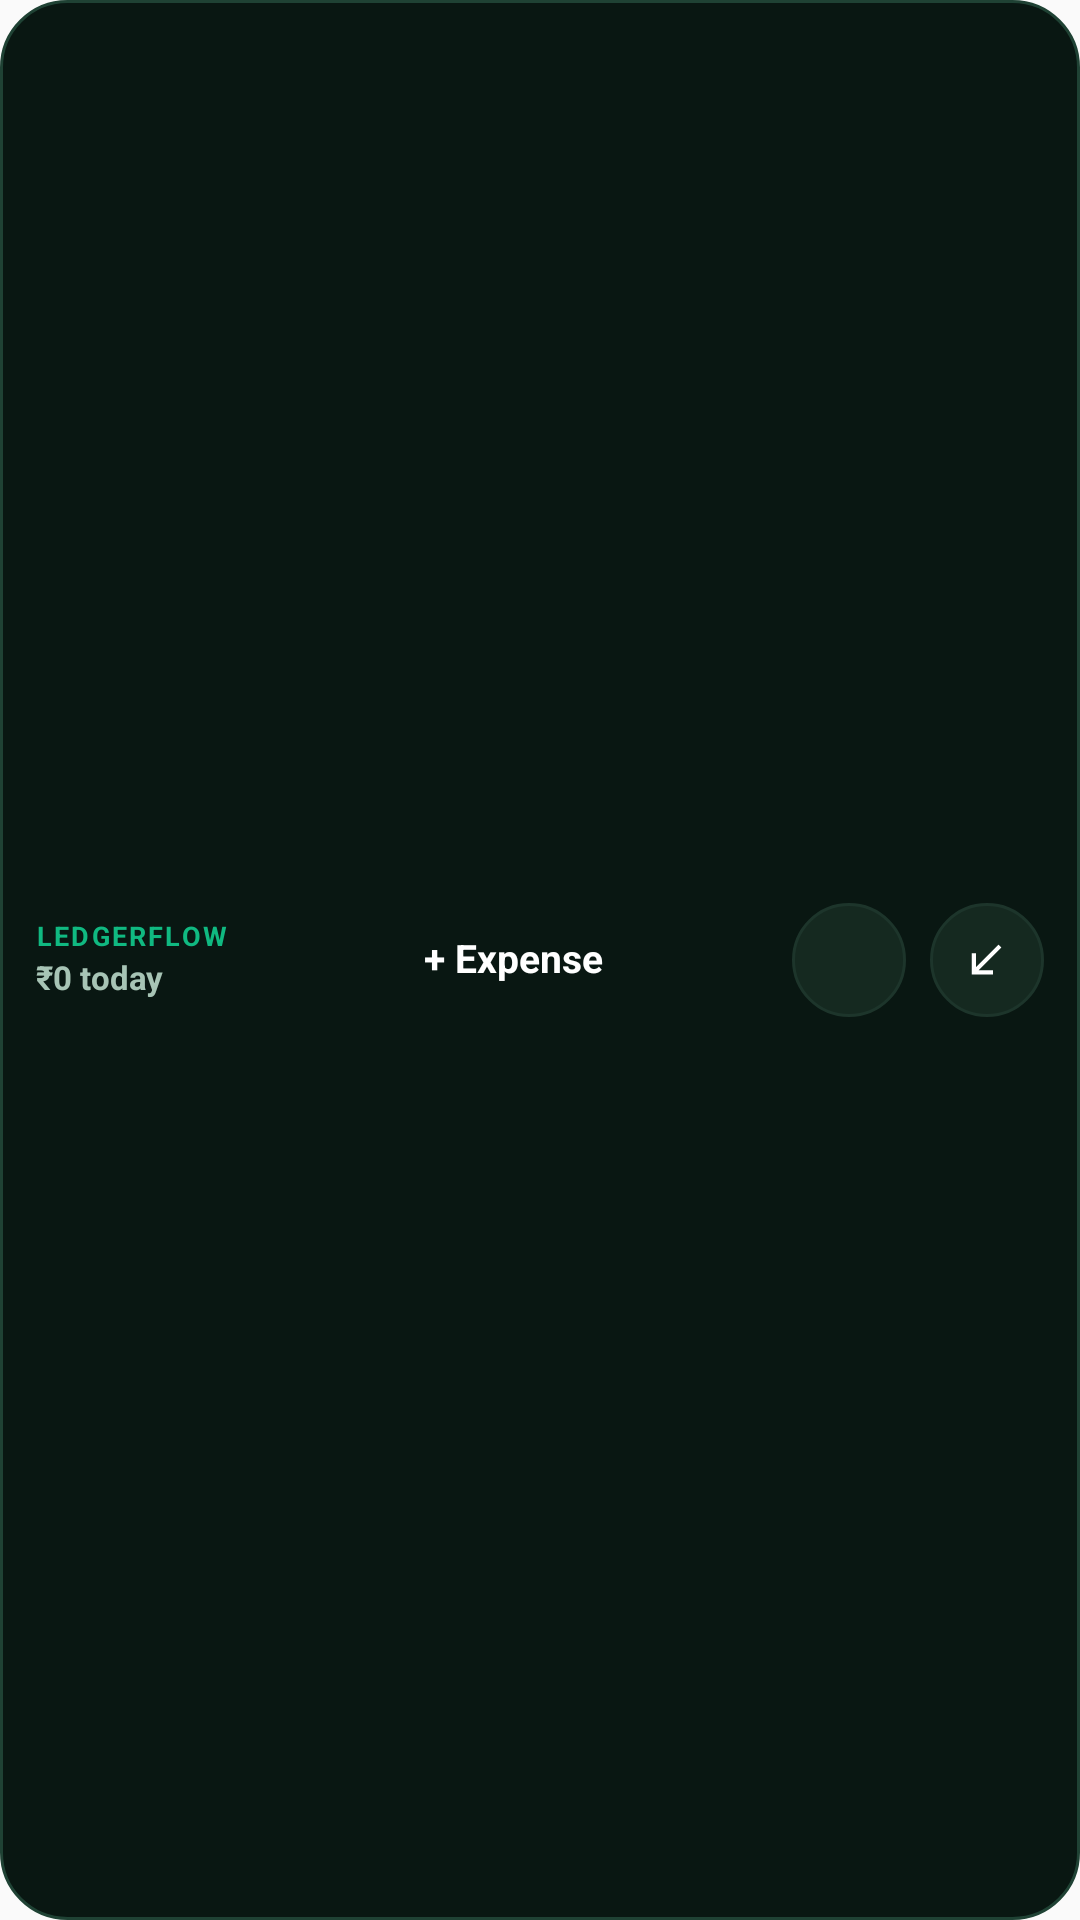

Where to tap for icons on this 1080px x 1920px app screen, as (x=x, y=y):
Quick Income: (x=986, y=959)
